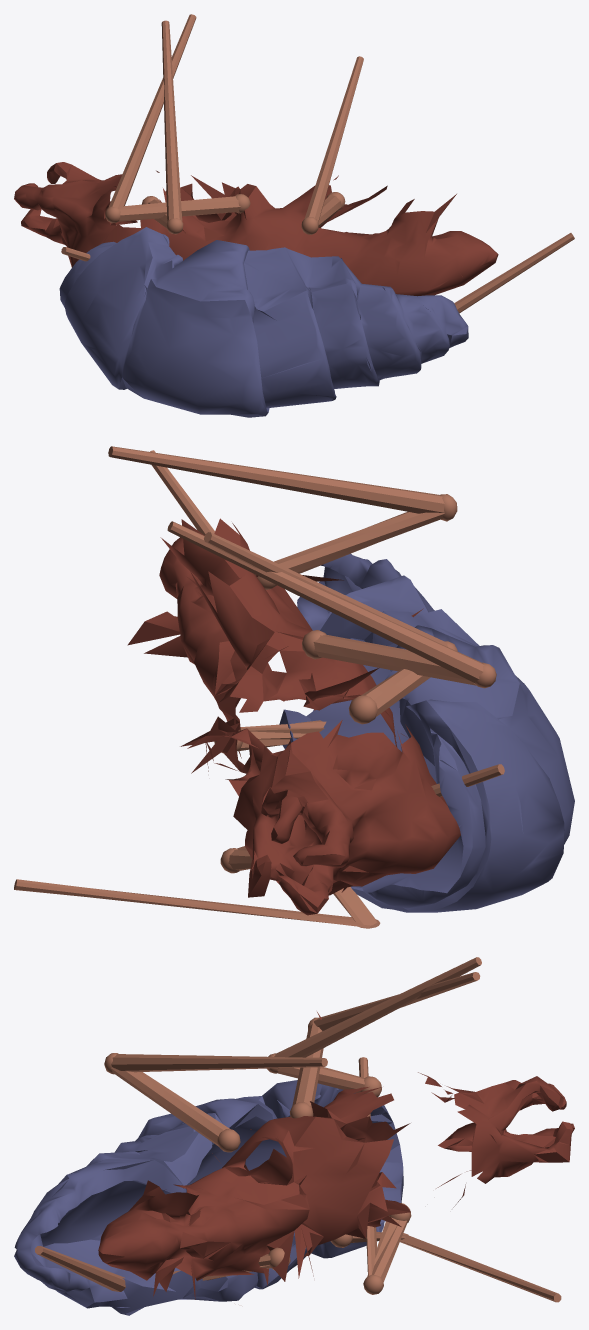
File: big-biter-corpse-1.glb
3 views of the same model, one above another, from view 1: azimuth 30°, elevation 25°; view 2: azimuth 150°, elevation 25°; view 3: azimuth 270°, elevation 25° (orthographic). The views are drawn at different scales.
Visible parts, largest first — view 1: body; view 2: body; view 3: body.
Boxes of the visible parts, x1,y1,x2,y2 form: body: (14,14,574,417); body: (14,446,574,928); body: (14,957,574,1315).
Bounding box in the file's own units: 3.09 × 2.12 × 3.33.
